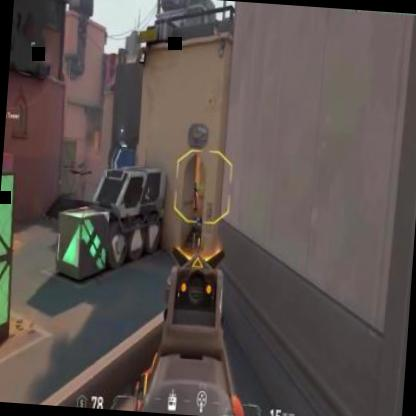enemy: (188, 180, 200, 214)
enemy_head: (193, 182, 197, 190)
